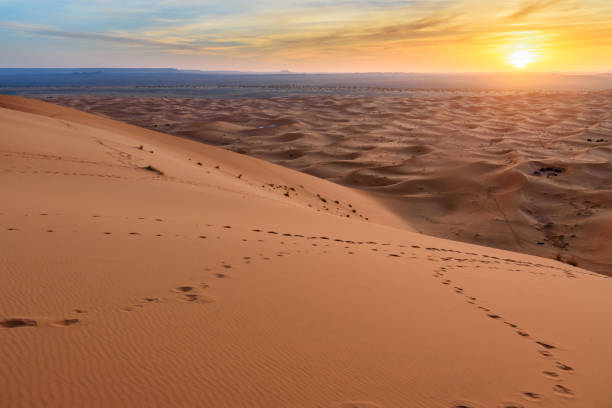human_foot_print: (473, 297, 557, 357), (0, 317, 82, 328), (0, 318, 38, 328), (311, 234, 344, 245)
